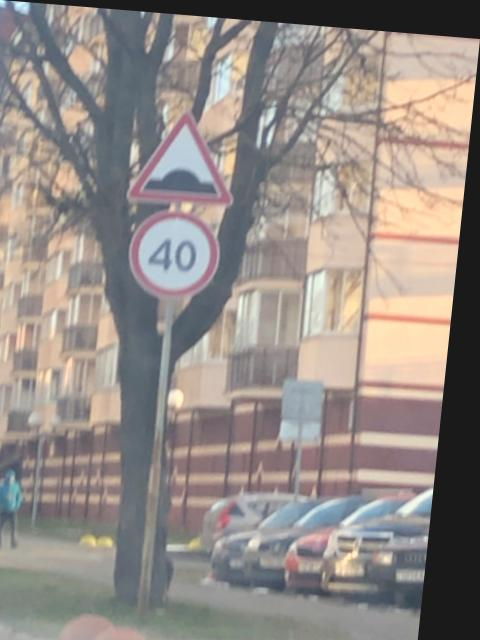limit40: (126, 200, 235, 304)
